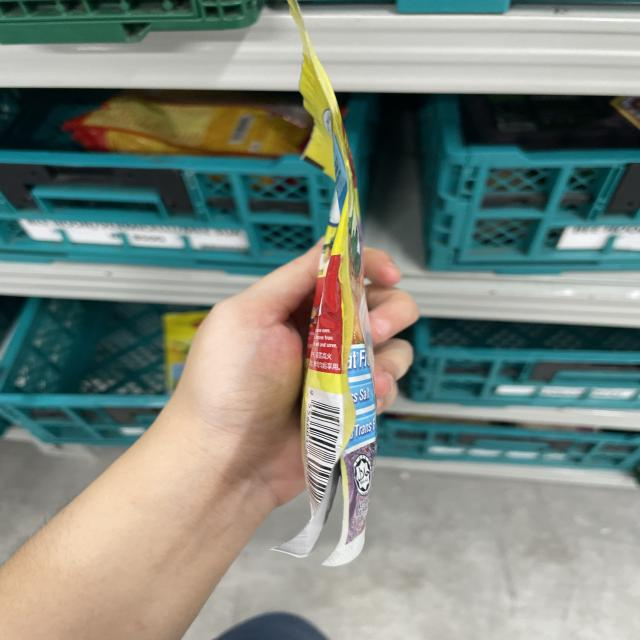object_name: (289, 42, 369, 554)
